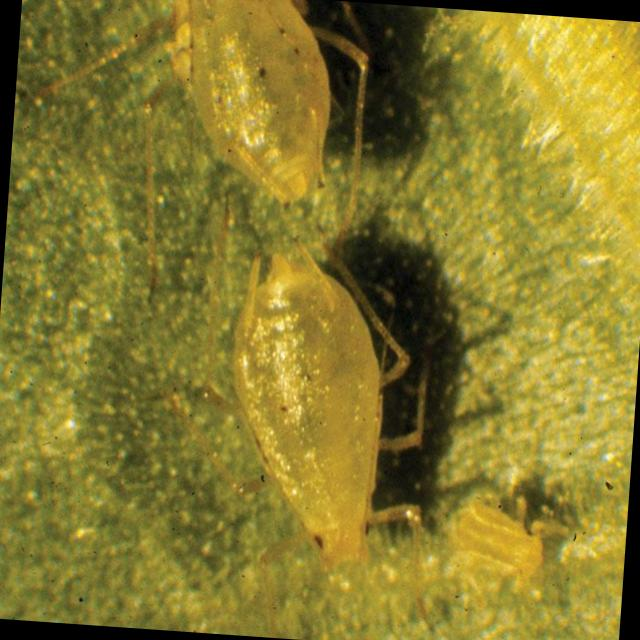Aphid: (177, 234, 481, 604), (145, 0, 379, 218)
